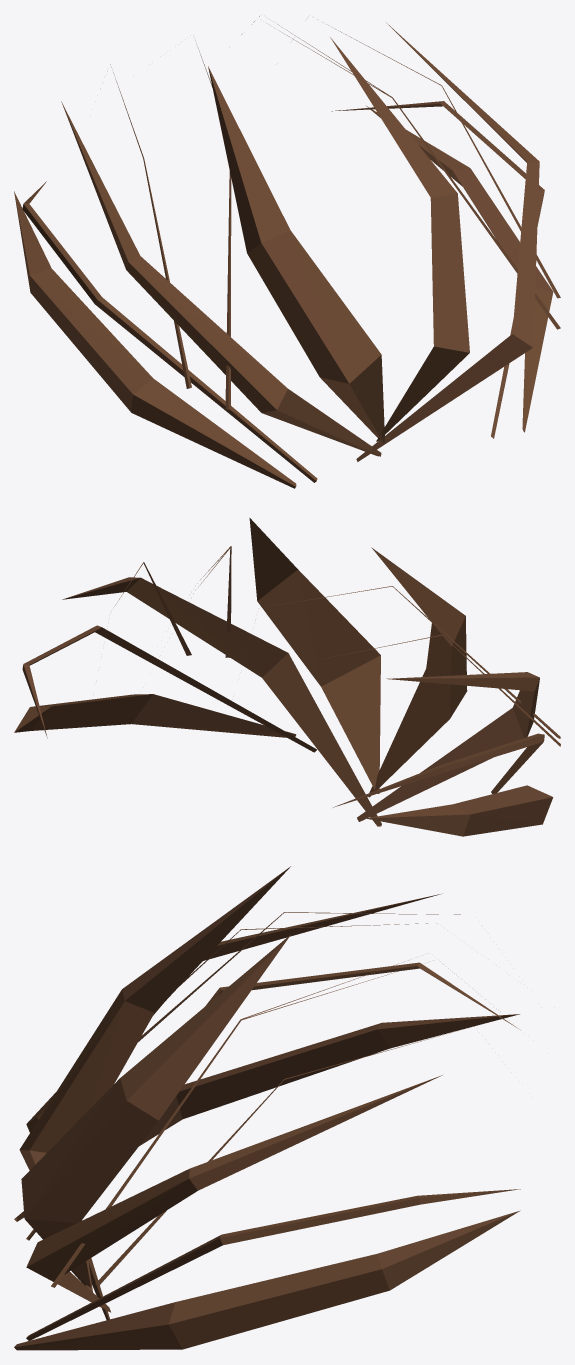
File: PeinadoEtapa4.fbx
3 renders of one model, top to bottom at view 1: azimuth 30°, elevation 25°; view 2: azimuth 150°, elevation 25°; view 3: azimuth 270°, elevation 25°, orthographic. The views are drawn at different scales.
Parts seen in each view (by area): view 1: PeinadoEtapa4; view 2: PeinadoEtapa4; view 3: PeinadoEtapa4.
Part boxes in pixels (x1,y1,x2,y2): PeinadoEtapa4: (14, 16, 560, 488); PeinadoEtapa4: (14, 518, 560, 836); PeinadoEtapa4: (14, 866, 520, 1350).
Bounding box in the file's own units: 1.13 × 0.8511 × 1.04.
